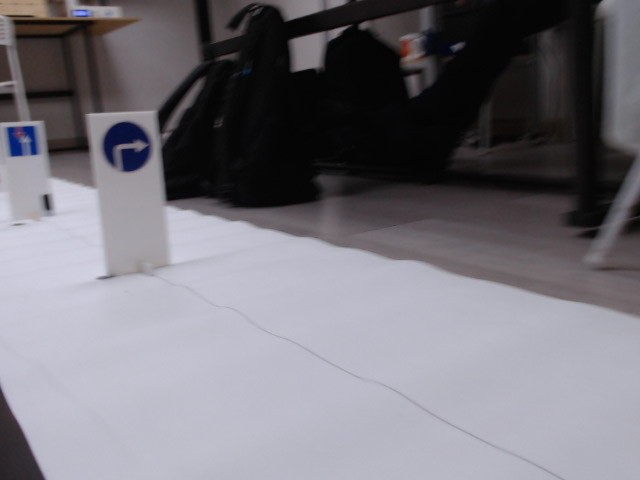Right: (99, 120, 153, 170)
priority_movement: (6, 125, 40, 157)
